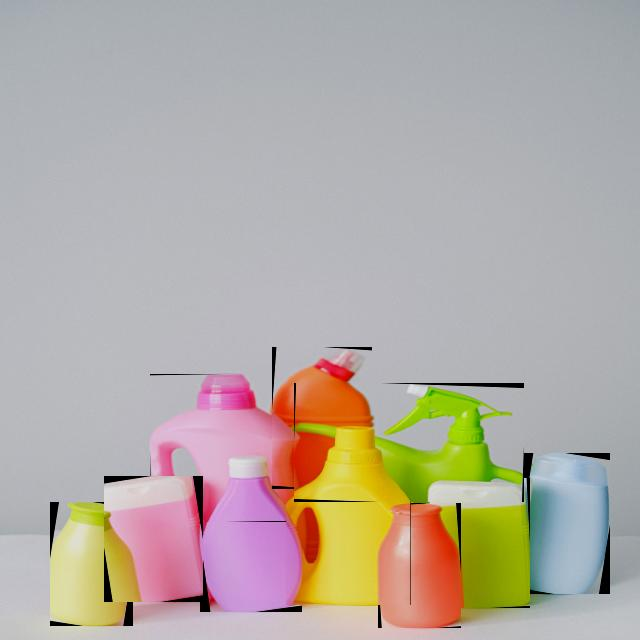Bottle: (286, 428, 409, 605), (149, 375, 298, 521), (375, 384, 522, 502), (199, 456, 301, 611), (430, 478, 528, 607), (104, 477, 201, 601), (523, 454, 608, 594), (49, 503, 131, 625), (378, 504, 459, 627), (271, 348, 371, 429)
